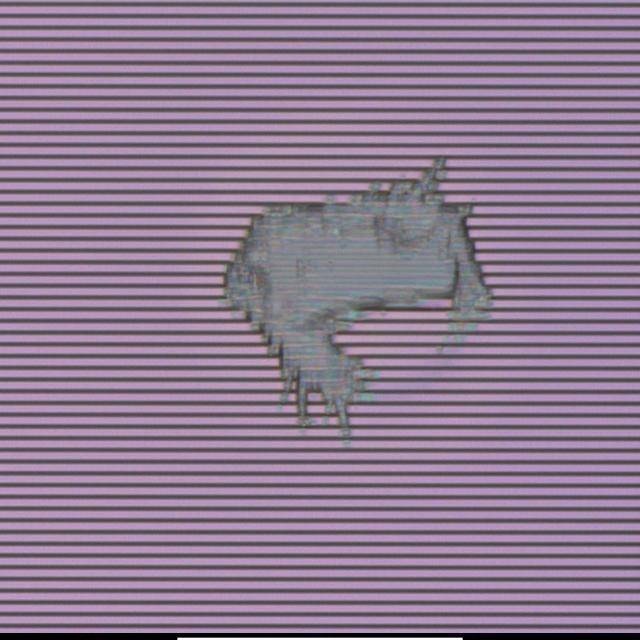03_intrusion: (208, 152, 494, 446)
